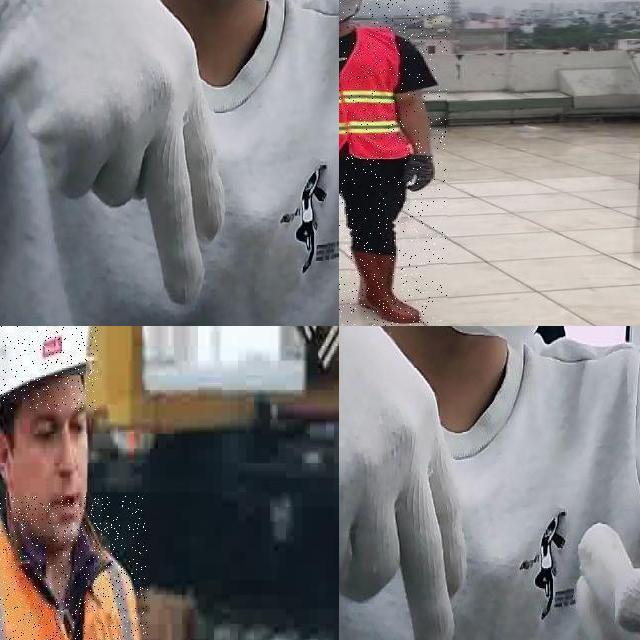BOOTS: (351, 249, 427, 323)
GLOVE: (0, 0, 226, 307), (339, 326, 467, 640), (402, 154, 435, 192)
HELMET: (0, 326, 98, 411)
VEST: (0, 496, 148, 640), (339, 30, 409, 159)
